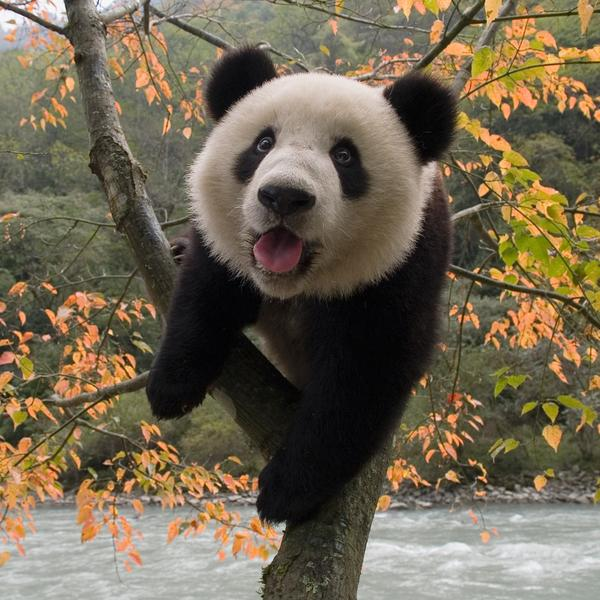panda: (129, 37, 471, 540)
